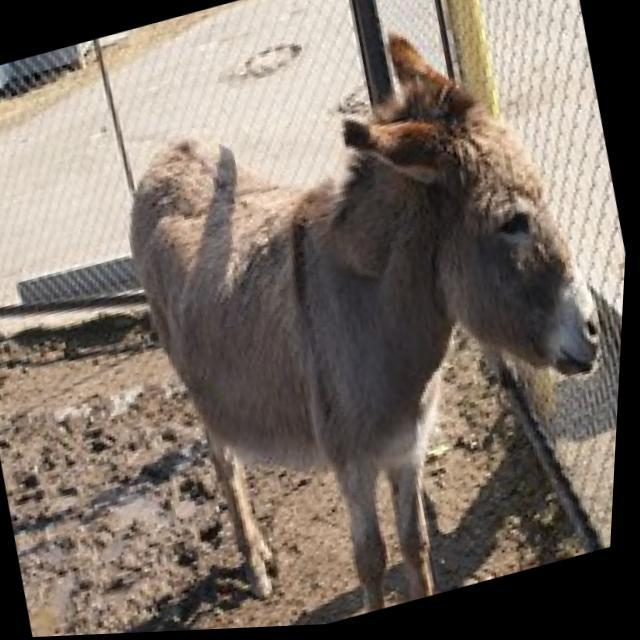Donkey: (84, 0, 640, 636)
